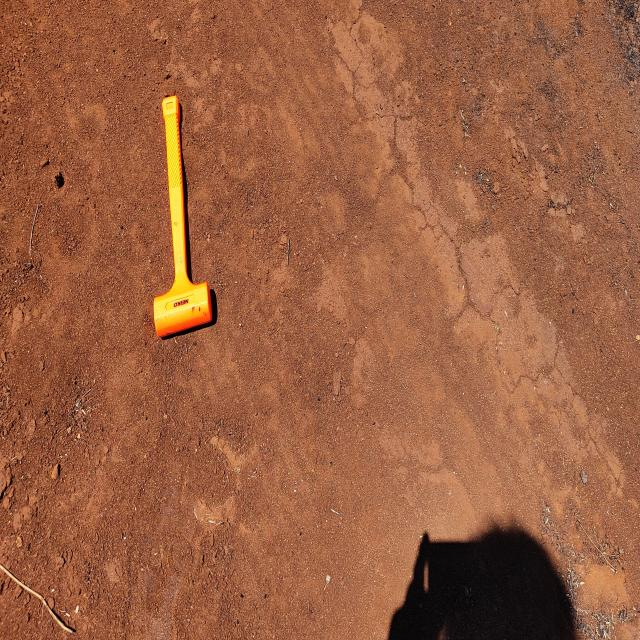Orange_hammer: (152, 93, 213, 339)
